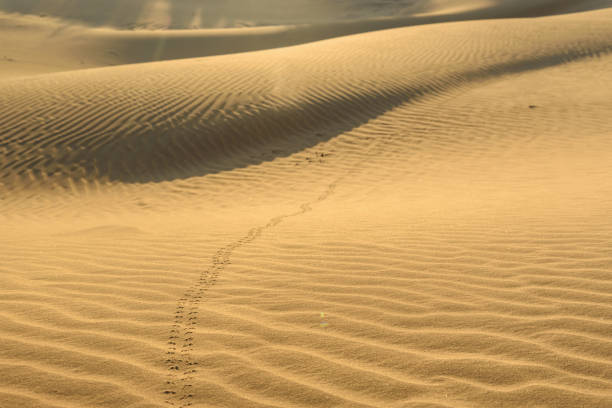animal_footprint: (163, 180, 338, 407)
